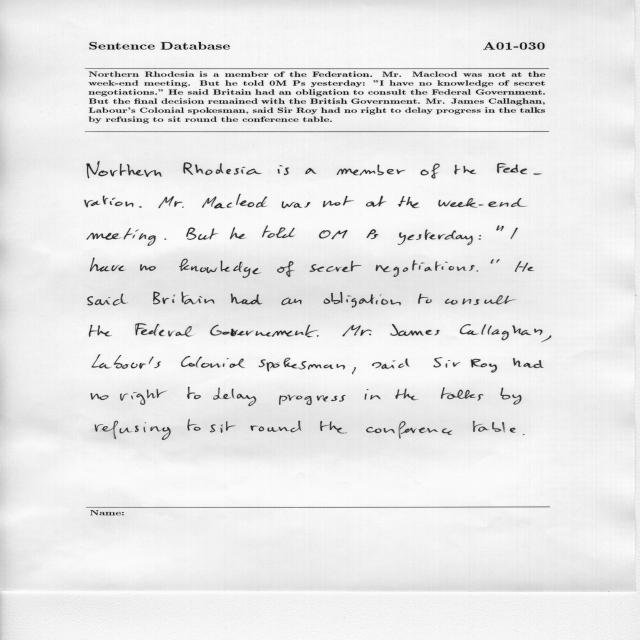word: (376, 260, 475, 277), (179, 258, 261, 278), (366, 421, 452, 439), (95, 421, 171, 440), (460, 324, 543, 341), (87, 161, 162, 179), (210, 325, 319, 337), (87, 228, 156, 246), (259, 358, 345, 372), (323, 292, 401, 307), (398, 230, 473, 245), (92, 354, 161, 369), (184, 163, 262, 176), (202, 194, 267, 209), (438, 198, 526, 208), (135, 323, 192, 337), (214, 388, 257, 406), (181, 356, 245, 368), (361, 324, 424, 336), (337, 165, 405, 176), (120, 389, 166, 405), (153, 292, 214, 304), (445, 295, 515, 305), (279, 395, 346, 405), (319, 229, 378, 240), (441, 387, 484, 401), (85, 196, 134, 208), (310, 261, 362, 272), (251, 421, 302, 432), (497, 163, 541, 175), (473, 421, 515, 433), (88, 294, 128, 306), (90, 258, 125, 271), (186, 227, 218, 240), (372, 358, 409, 369), (262, 226, 295, 238), (471, 359, 497, 373), (501, 388, 522, 405), (231, 294, 263, 305), (320, 421, 347, 434), (323, 196, 354, 207), (158, 196, 184, 208), (210, 421, 236, 433), (513, 358, 544, 368), (434, 357, 461, 368), (277, 261, 295, 277), (421, 164, 440, 179), (89, 325, 112, 337), (395, 389, 418, 400), (398, 196, 419, 208), (454, 165, 476, 175), (366, 196, 386, 207), (515, 261, 534, 272), (343, 325, 361, 336), (282, 202, 310, 209), (364, 389, 381, 400), (230, 228, 245, 240), (187, 387, 201, 399), (187, 419, 201, 431), (282, 298, 302, 305), (418, 294, 432, 304), (91, 393, 109, 400), (140, 264, 156, 271), (278, 165, 289, 175), (511, 228, 518, 239), (305, 168, 317, 174), (426, 330, 440, 335), (542, 336, 552, 343), (491, 259, 500, 264), (496, 226, 504, 231), (352, 367, 356, 374), (479, 235, 481, 240), (139, 206, 142, 208), (165, 238, 167, 240), (477, 270, 479, 272), (523, 434, 525, 435)
